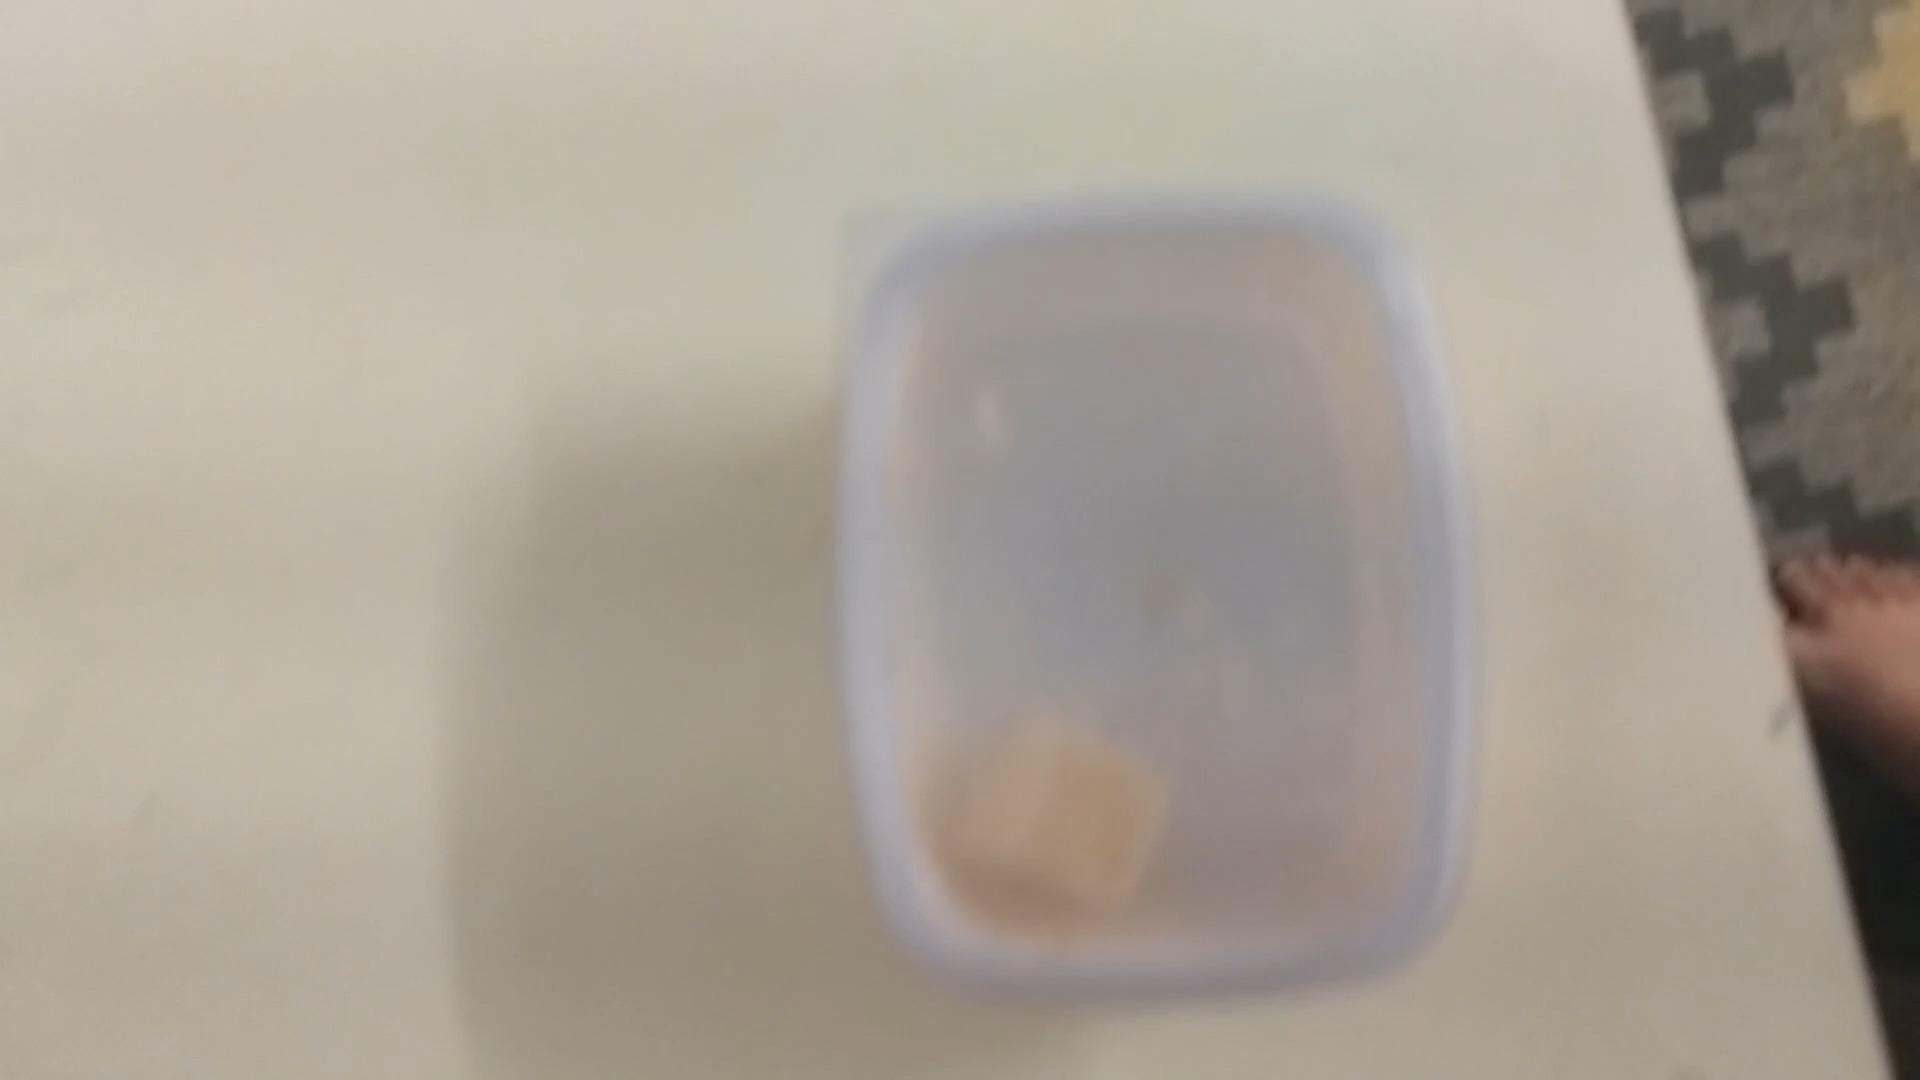butter: (843, 194, 1470, 1010)
